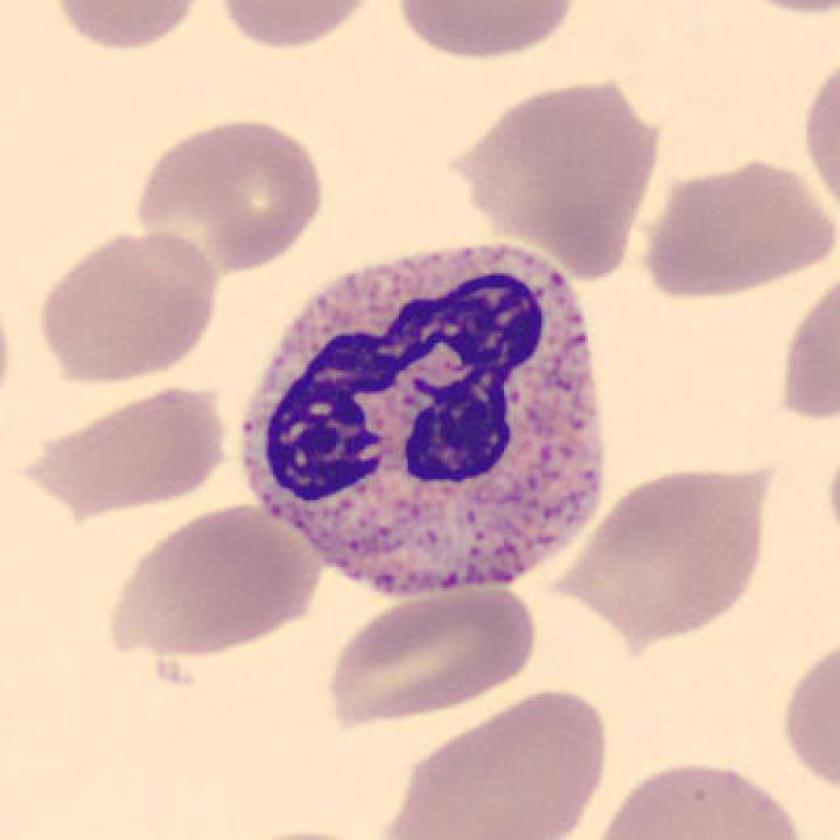neutrophil: (244, 249, 601, 593)
